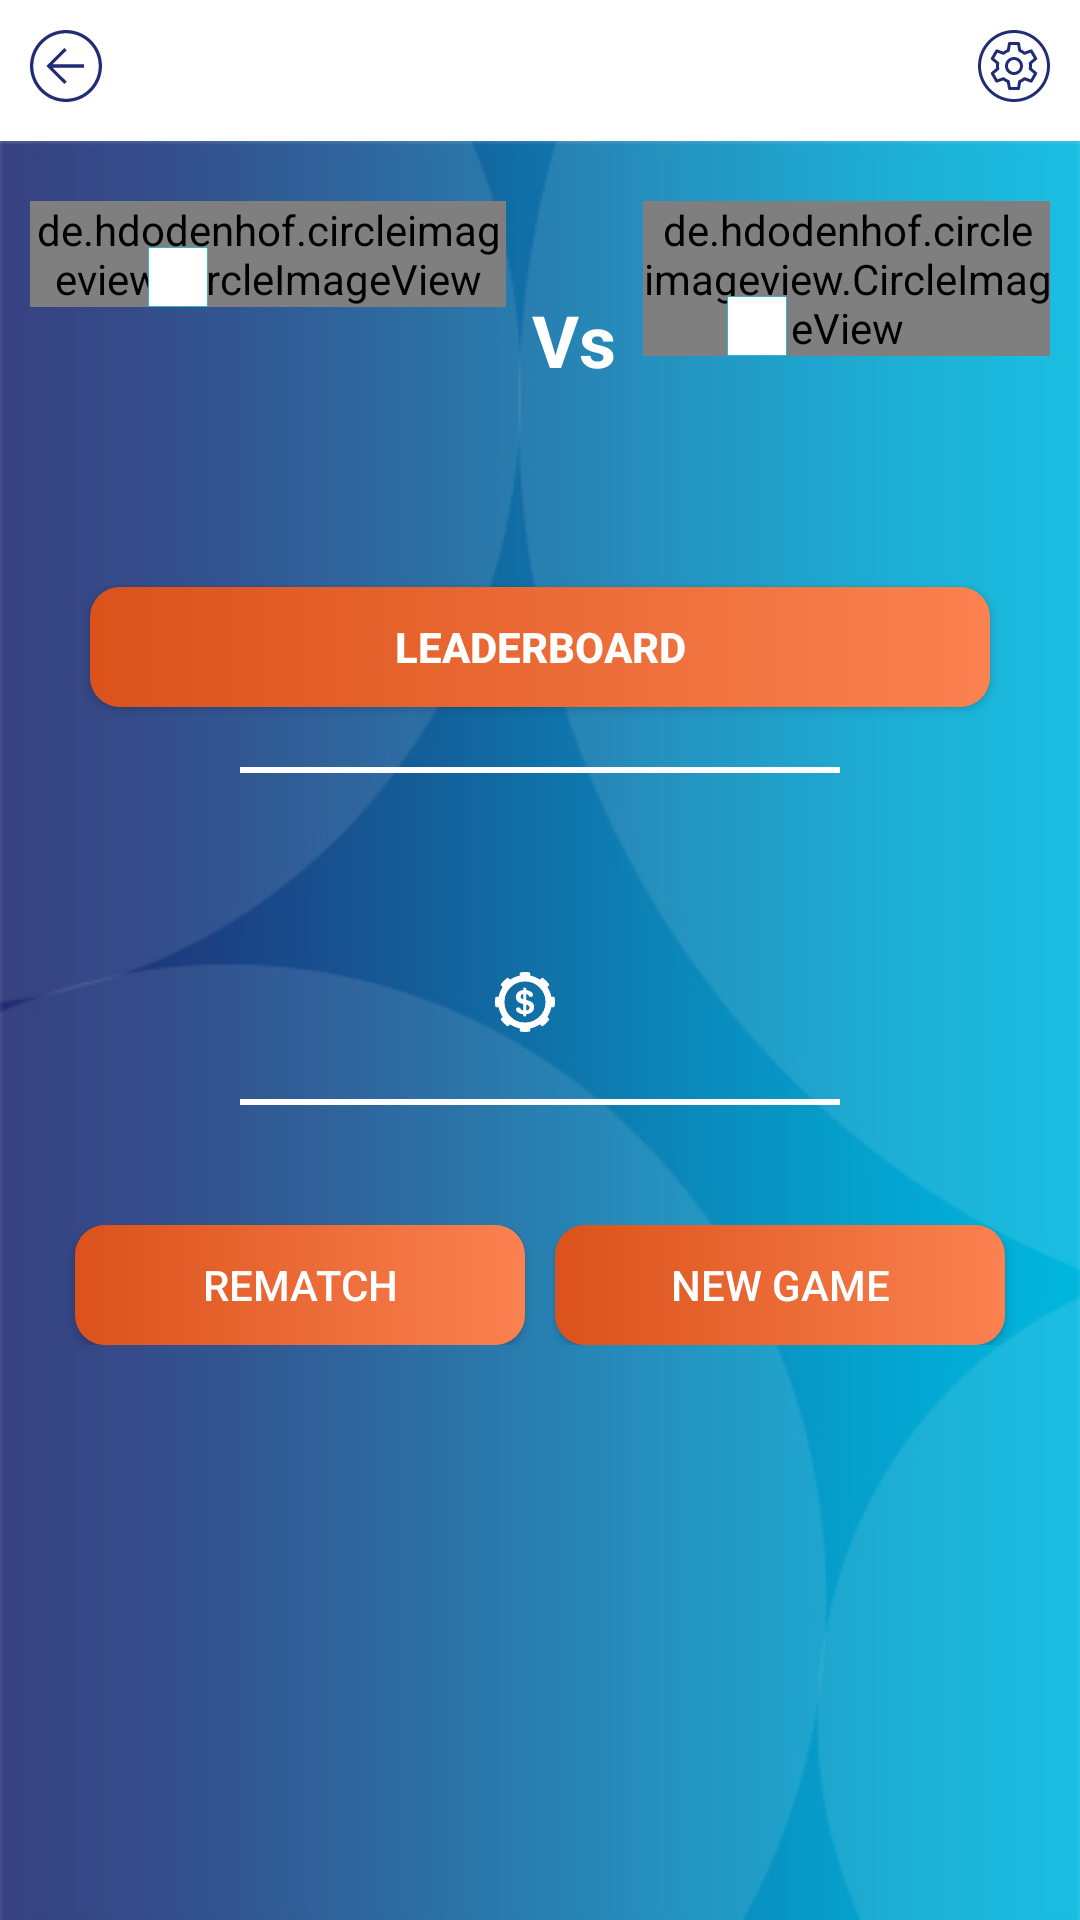

Screen size 1080×1920. Icon name, then its box in pixels as bbox=[x1, y1, x2, y2]:
dollar: bbox=[495, 972, 555, 1032]
profile backpress: bbox=[30, 30, 102, 102]
profile settings: bbox=[978, 30, 1050, 102]
